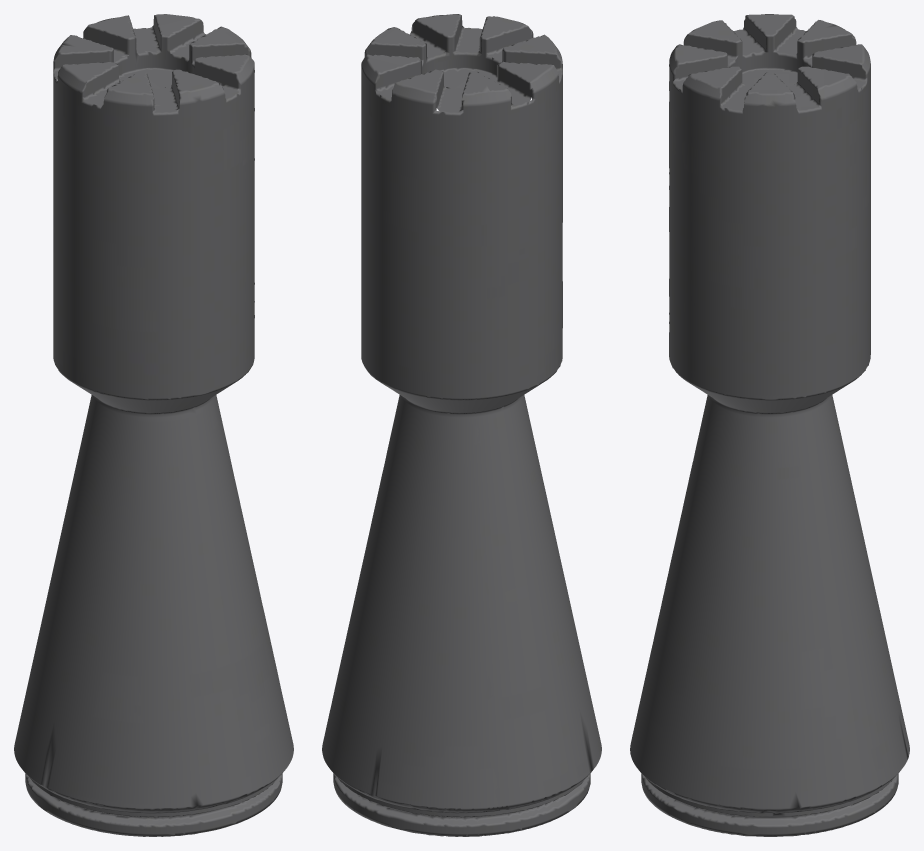
File: king-black-hd.glb
The picture shows the model from 3 angles, left to right: view 1: azimuth 30°, elevation 25°; view 2: azimuth 150°, elevation 25°; view 3: azimuth 270°, elevation 25°; orthographic projection.
Visible parts, largest first — view 1: 01_kral_cerna; view 2: 01_kral_cerna; view 3: 01_kral_cerna.
Boxes of the visible parts, x1,y1,x2,y2 form: 01_kral_cerna: (14,14,293,836); 01_kral_cerna: (322,14,601,836); 01_kral_cerna: (630,14,909,836).
Bounding box in the file's own units: 0.5731 × 1.65 × 0.5731.
1 material, 1 textured.
